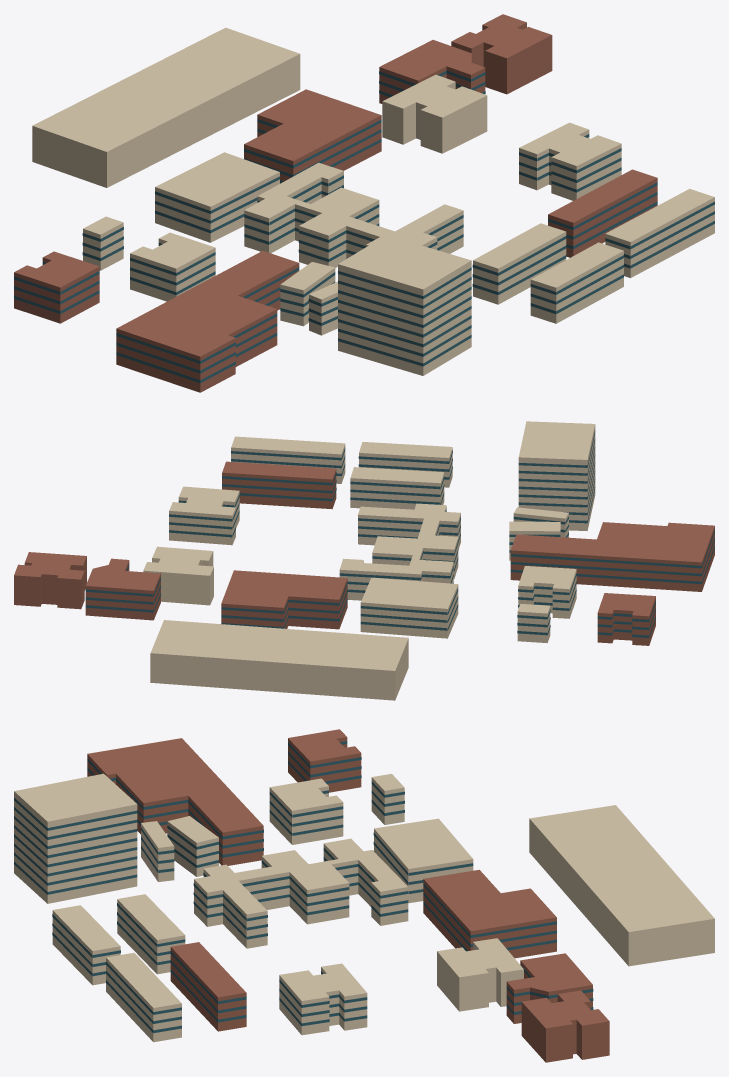
The model's file is city_9_-5.glb.
3 renders of one model, top to bottom at view 1: azimuth 30°, elevation 25°; view 2: azimuth 150°, elevation 25°; view 3: azimuth 270°, elevation 25°, orthographic. The views are drawn at different scales.
Visible parts, largest first — view 1: city_9_-5; view 2: city_9_-5; view 3: city_9_-5.
Boxes of the visible parts, <box> form: city_9_-5: <box>14,14,714,392</box>; city_9_-5: <box>14,421,714,700</box>; city_9_-5: <box>14,729,714,1062</box>.
Size of the model in its own units: 281 by 36 by 278.
